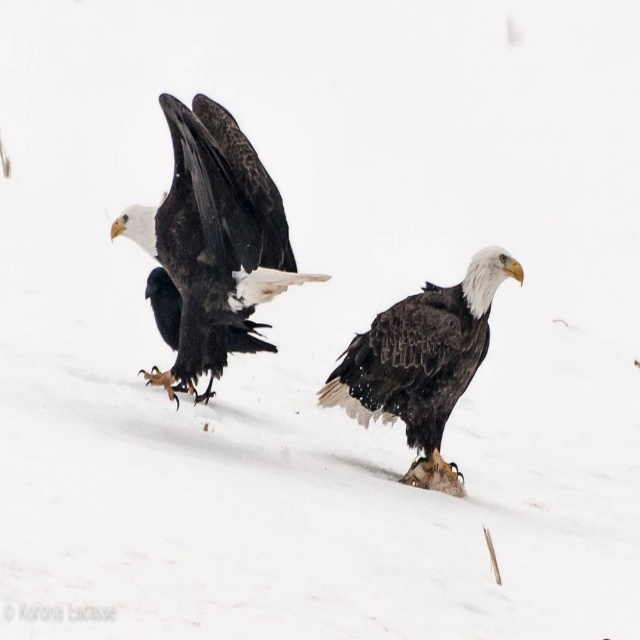Eagle: (109, 90, 327, 421), (317, 244, 527, 501)
